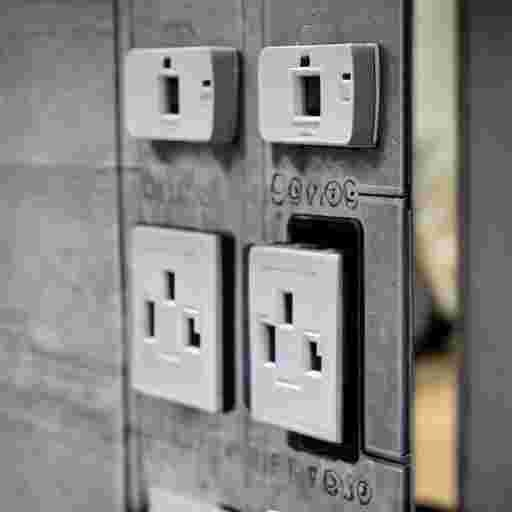power outlet: (130, 225, 233, 412), (249, 244, 342, 442), (258, 43, 379, 146), (124, 46, 238, 143)
